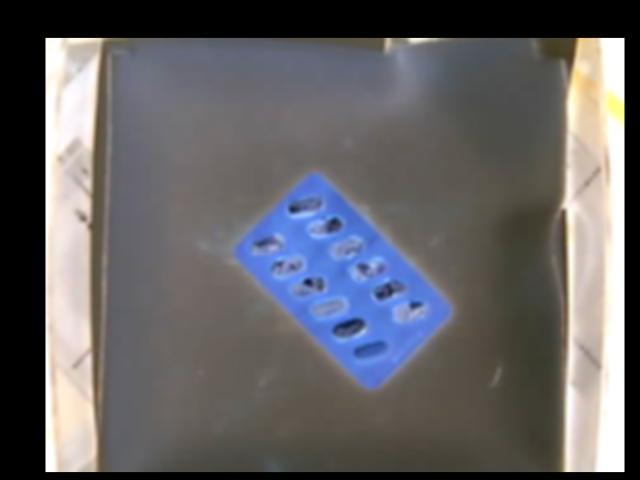Medicine: (241, 170, 448, 389)
